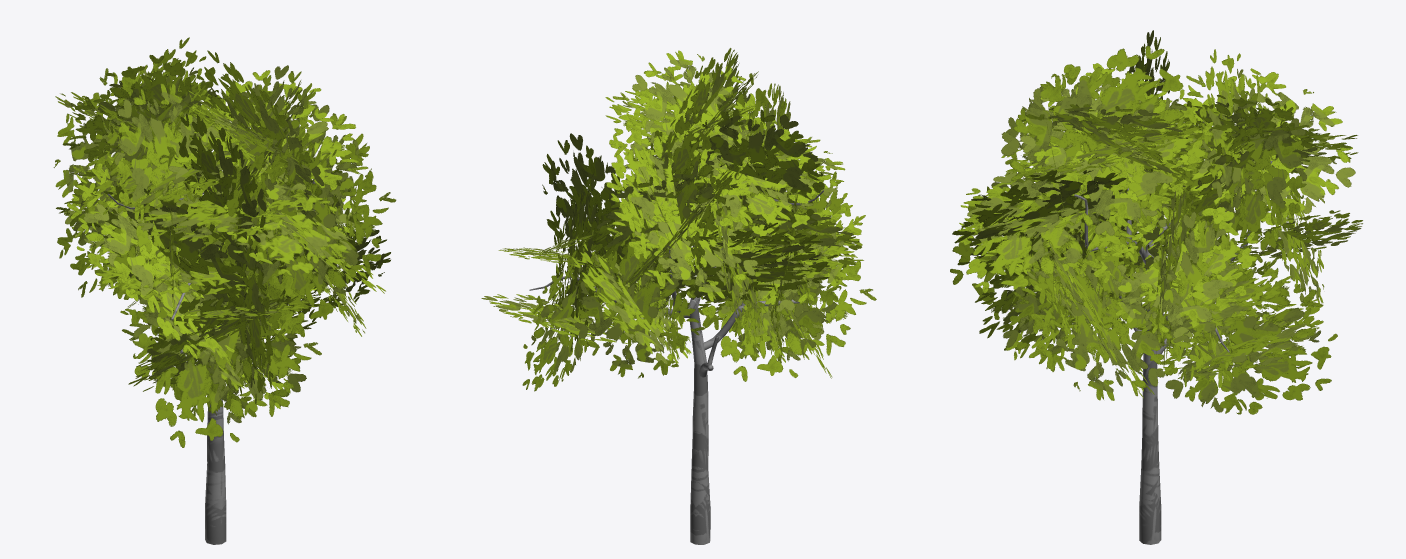
File: FUck you this model is not processing.fbx
3 renders of one model, left to right at view 1: azimuth 30°, elevation 25°; view 2: azimuth 150°, elevation 25°; view 3: azimuth 270°, elevation 25°, orthographic. The views are drawn at different scales.
Visible parts, largest first — view 1: tree; view 2: tree; view 3: tree.
Part boxes in pixels (x1,y1,x2,y2): tree: [53, 37, 396, 544]; tree: [481, 48, 876, 544]; tree: [950, 30, 1362, 544].
Size of the model in its own units: 1034 by 1358 by 1113.
Materials: 2 (2 with a texture image).
